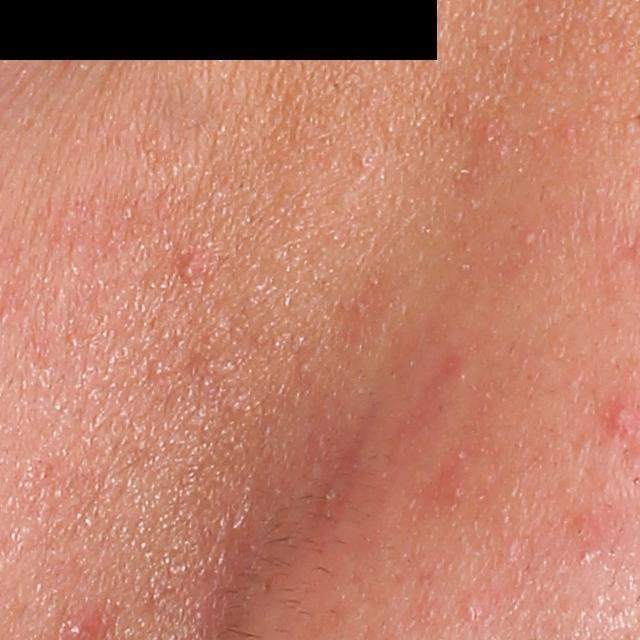comedo: (176, 254, 204, 282), (456, 599, 482, 621)
